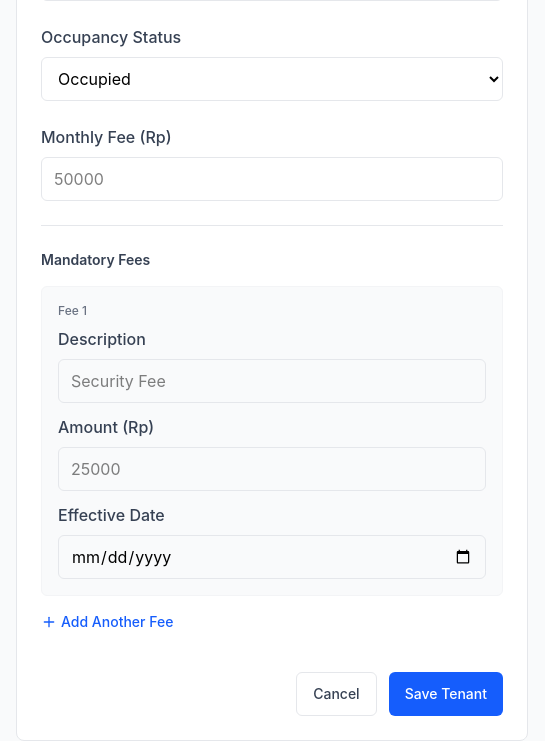
TenantForm › adds fee row when "+ Add Another Fee" is clicked
(page scrolled)
Click the button "Add Another Fee".
click(107, 622)  # box [41, 612, 173, 632]
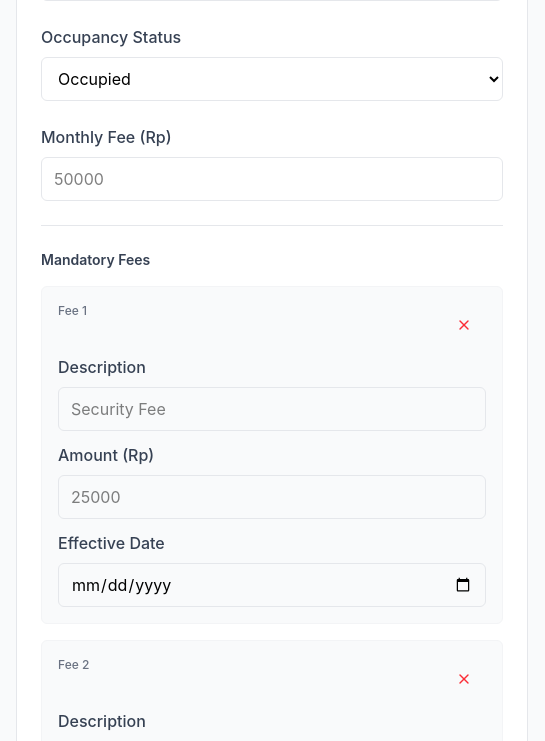
Expected: the text "Fee 2" is shown, [58, 657, 89, 673]
